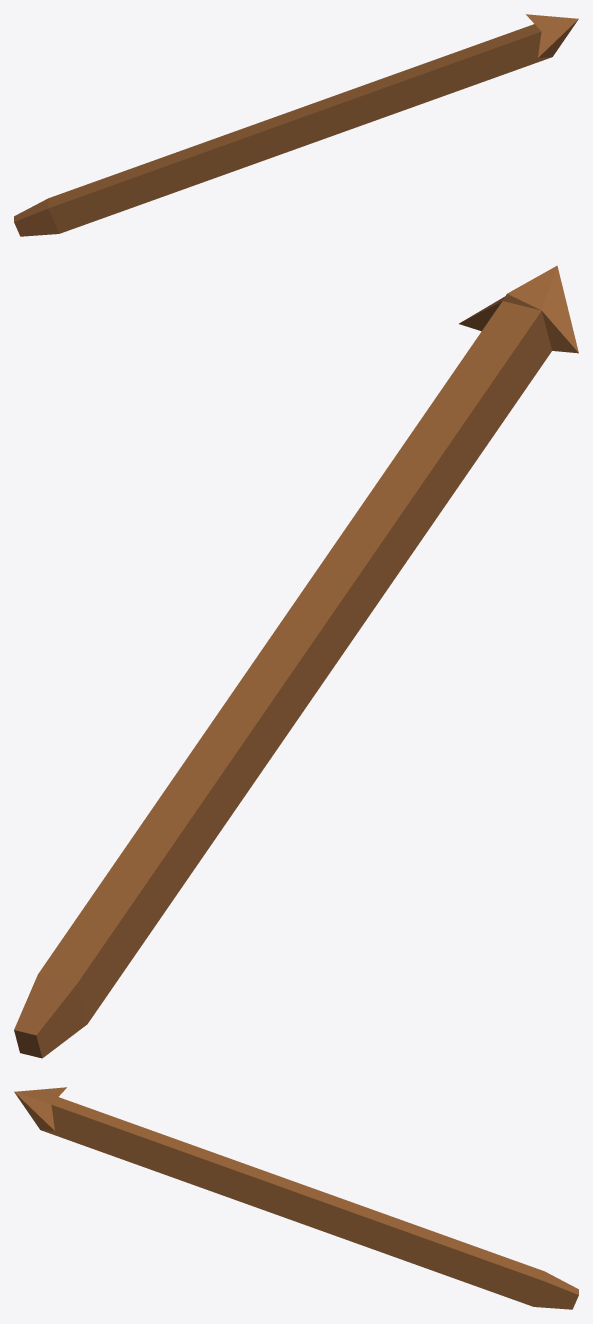
The model's file is arrow_ballista.fbx.
3 renders of one model, top to bottom at view 1: azimuth 90°, elevation 25°; view 2: azimuth 150°, elevation 25°; view 3: azimuth 270°, elevation 25°, orthographic. The views are drawn at different scales.
Visible parts, largest first — view 1: arrow_ballista; view 2: arrow_ballista; view 3: arrow_ballista.
Boxes of the visible parts, x1,y1,x2,y2 form: arrow_ballista: (14,14,578,236); arrow_ballista: (14,265,578,1058); arrow_ballista: (14,1087,578,1309).
Bounding box in the file's own units: 0.0295 × 0.0966 × 0.2251.
